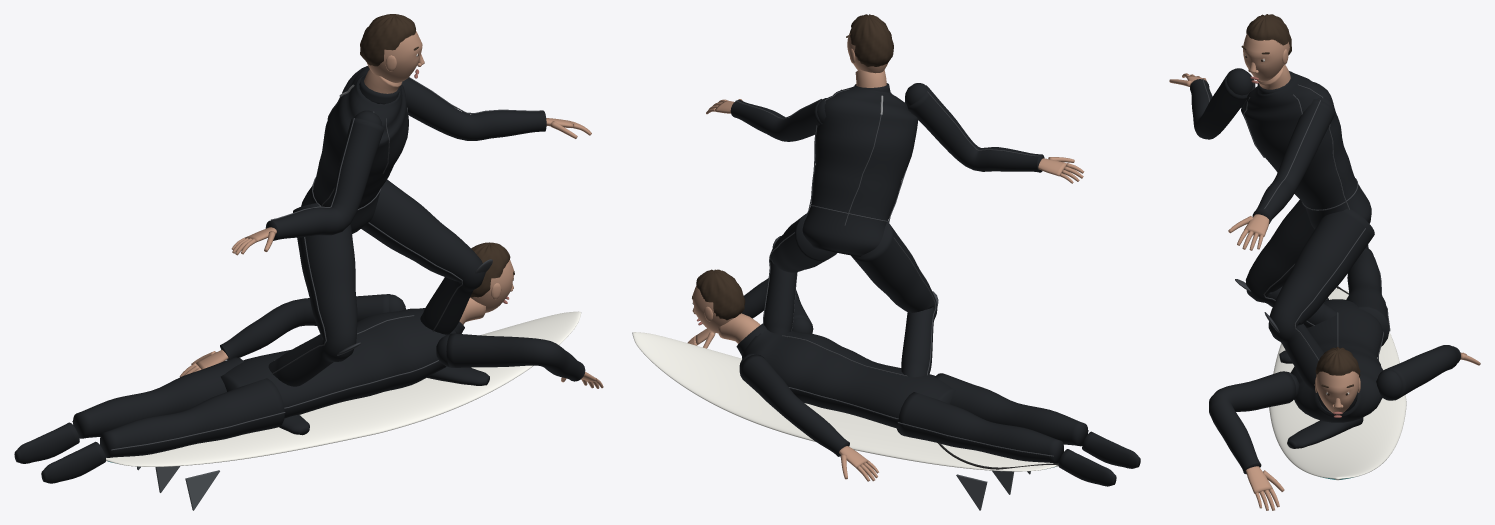
The model's file is surfer.glb.
3 renders of one model, left to right at view 1: azimuth 30°, elevation 25°; view 2: azimuth 150°, elevation 25°; view 3: azimuth 270°, elevation 25°, orthographic. The views are drawn at different scales.
Visible parts, largest first — view 1: paddler_wetsuit, rider_wetsuit, board, rider_skin, paddler_skin, rider_hair, rider_wetsuit_seam, paddler_hair, paddler_wetsuit_seam, fin; view 2: rider_wetsuit, paddler_wetsuit, board, paddler_skin, rider_skin, rider_hair, paddler_hair, rider_wetsuit_seam, paddler_wetsuit_seam; view 3: rider_wetsuit, paddler_wetsuit, board, rider_skin, paddler_skin, rider_wetsuit_seam, rider_hair, paddler_hair.
Part boxes in pixels (x1,y1,x2,y2): paddler_wetsuit: [14, 294, 585, 483]; rider_wetsuit: [265, 66, 546, 435]; board: [106, 311, 581, 466]; rider_skin: [231, 31, 591, 255]; paddler_skin: [179, 260, 603, 388]; rider_hair: [360, 14, 418, 66]; rider_wetsuit_seam: [271, 77, 543, 374]; paddler_hair: [470, 242, 514, 297]; paddler_wetsuit_seam: [72, 315, 438, 450]; fin: [185, 470, 219, 510]; rider_wetsuit: [730, 83, 1044, 436]; paddler_wetsuit: [736, 278, 1140, 486]; board: [632, 332, 1058, 471]; paddler_skin: [687, 285, 878, 481]; rider_skin: [706, 33, 1084, 183]; rider_hair: [846, 14, 893, 66]; paddler_hair: [692, 269, 745, 320]; rider_wetsuit_seam: [736, 89, 1038, 375]; paddler_wetsuit_seam: [782, 335, 1088, 456]; rider_wetsuit: [1190, 68, 1374, 448]; paddler_wetsuit: [1209, 245, 1460, 474]; board: [1269, 288, 1406, 480]; rider_skin: [1169, 34, 1290, 250]; paddler_skin: [1245, 352, 1480, 510]; rider_wetsuit_seam: [1202, 79, 1365, 360]; rider_hair: [1241, 14, 1291, 55]; paddler_hair: [1315, 347, 1360, 387].
Size of the model in its own units: 2.12 by 1.68 by 1.1.
